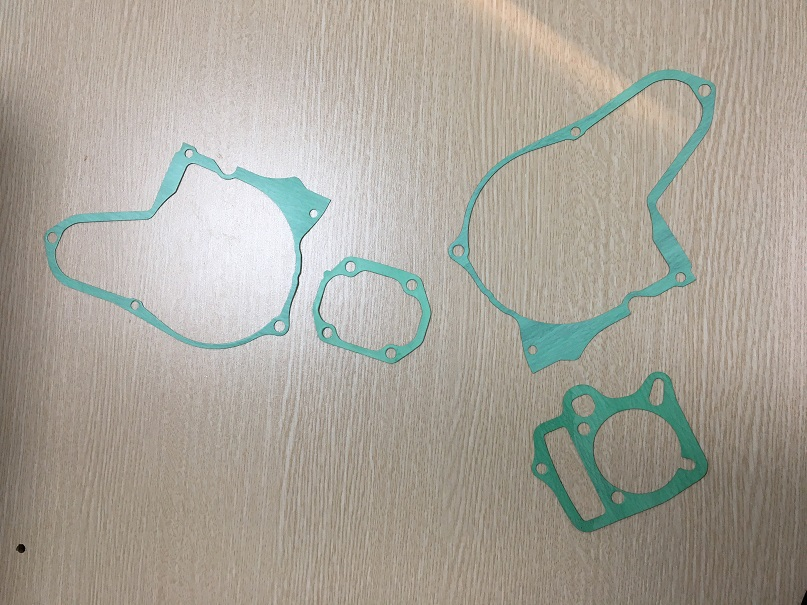type1: (437, 58, 725, 379), (38, 138, 343, 359)
type2: (311, 251, 436, 375)
type4: (523, 370, 714, 540)
